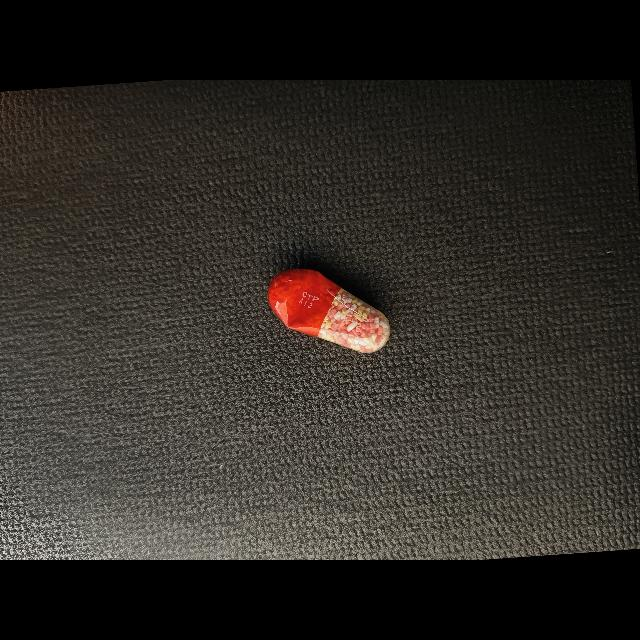Defective Capsule: (269, 268, 390, 353)
